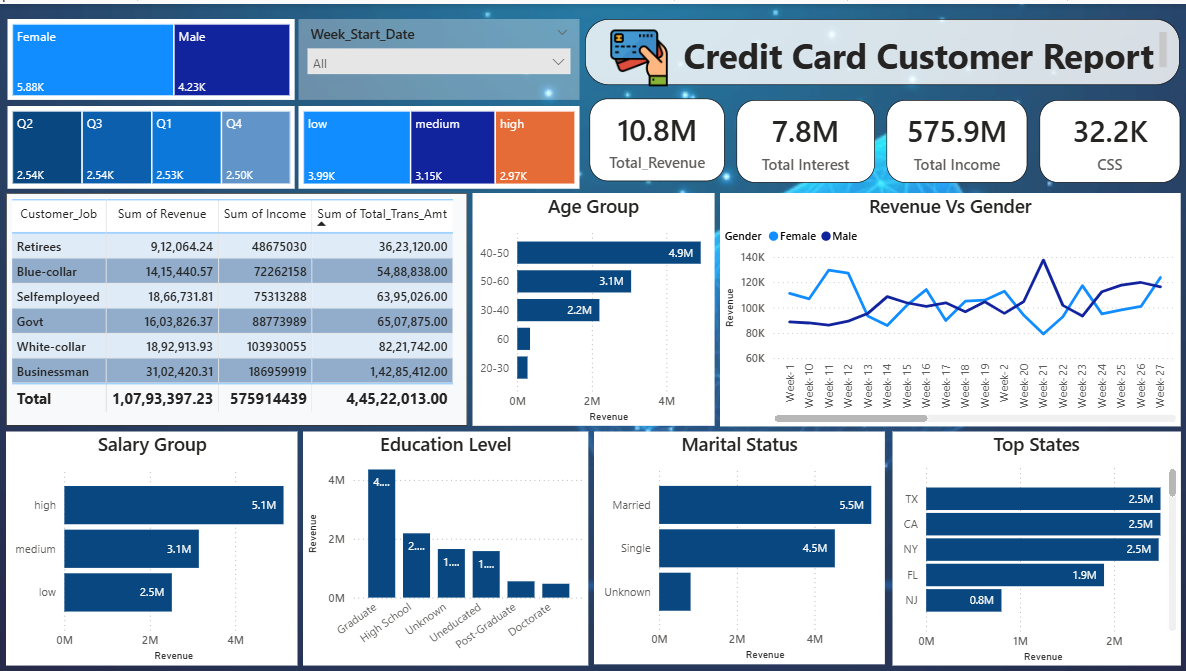

Layout of this report page (visuals, bound fields, positions):
{"tool":"powerbi","page":{"name":"Customer Report","canvas":[1280,720],"ordinal":1},"visuals":[{"type":"textbox","box":[630.8,16.2,642.2,71.4],"z":0},{"type":"card","fields":{"Values":["credit_card.Total_Revenue"]},"box":[635.7,102.2,145.9,89.2],"z":1000},{"type":"card","fields":{"Values":["credit_card.Total_Interest_Earned"]},"box":[795,103.6,149,89.1],"z":2000},{"type":"card","fields":{"Values":["Sum(customer.Income)"]},"box":[957,103.6,152.2,89.1],"z":3000},{"type":"card","fields":{"Values":["Sum(customer.Cust_Satisfaction_Score)"]},"box":[1122.1,103.6,152.2,89.1],"z":4000},{"type":"lineChart","title":"Revenue Vs Gender","fields":{"Category":["credit_card.Week_Num","credit_card.Week_Start_Date.Variation.Date Hierarchy.Quarter","credit_card.Week_Start_Date.Variation.Date Hierarchy.Month","credit_card.Week_Start_Date.Variation.Date Hierarchy.Day"],"Y":["Sum(credit_card.Revenue)"],"Series":["customer.Gender"]},"box":[777.2,204,497,252],"z":5000},{"type":"clusteredBarChart","title":"Top States","fields":{"Category":["customer.state_cd"],"Y":["Sum(credit_card.Revenue)"]},"box":[963,462,311,253],"z":6000},{"type":"clusteredBarChart","title":"Salary Group","fields":{"Y":["Sum(credit_card.Revenue)"],"Category":["customer.Income_Group"]},"box":[6.5,462.2,314.6,253],"z":7000},{"type":"clusteredBarChart","title":"Marital Status","fields":{"Category":["customer.Marital_Status"],"Y":["Sum(credit_card.Revenue)"]},"box":[642,462,314,251],"z":8000},{"type":"columnChart","title":"Education Level","fields":{"Category":["customer.Education_Level"],"Y":["Sum(credit_card.Revenue)"]},"box":[327,462.2,308.1,253],"z":9000},{"type":"barChart","title":"Age Group","fields":{"Category":["customer.Age_Group"],"Y":["Sum(credit_card.Revenue)"]},"box":[510,204.3,261,251.4],"z":10000},{"type":"tableEx","fields":{"Values":["customer.Customer_Job","Sum(credit_card.Revenue)","Sum(customer.Income)","Sum(credit_card.Total_Trans_Amt)"]},"box":[6.5,204.3,497.8,251.4],"z":11000},{"type":"treemap","fields":{"Group":["credit_card.Qtr"],"Values":["CountNonNull(customer.Client_Num)"]},"box":[8,110,310,89],"z":12000},{"type":"treemap","fields":{"Group":["customer.Gender"],"Values":["CountNonNull(customer.Client_Num)"]},"box":[8.1,16.2,309.7,87.6],"z":13000},{"type":"slicer","fields":{"Values":["credit_card.Week_Start_Date"]},"box":[322.7,16.2,303.2,87.6],"z":14000},{"type":"treemap","fields":{"Values":["CountNonNull(customer.Client_Num)"],"Group":["customer.Income_Group"]},"box":[322.7,110.3,303.2,89.2],"z":15000},{"type":"image","box":[642.2,27.6,94.1,61.6],"z":16000}]}

Visuals, with their boxes in screenshot pixels (x1, y1, x2, y2), scaled from the page's 1280x720 canvas onto the 1186x671 screenshot:
textbox: box=[584, 15, 1180, 82]
card - credit_card.Total_Revenue: box=[589, 95, 724, 178]
card - credit_card.Total_Interest_Earned: box=[737, 97, 875, 180]
card - Sum(customer.Income): box=[887, 97, 1028, 180]
card - Sum(customer.Cust_Satisfaction_Score): box=[1040, 97, 1181, 180]
"Revenue Vs Gender" lineChart: box=[720, 190, 1181, 425]
"Top States" clusteredBarChart: box=[892, 431, 1180, 666]
"Salary Group" clusteredBarChart: box=[6, 431, 298, 667]
"Marital Status" clusteredBarChart: box=[595, 431, 886, 664]
"Education Level" columnChart: box=[303, 431, 588, 667]
"Age Group" barChart: box=[473, 190, 714, 425]
tableEx - customer.Customer_Job x Sum(credit_card.Revenue): box=[6, 190, 467, 425]
treemap - credit_card.Qtr x CountNonNull(customer.Client_Num): box=[7, 103, 295, 185]
treemap - customer.Gender x CountNonNull(customer.Client_Num): box=[8, 15, 294, 97]
slicer - credit_card.Week_Start_Date: box=[299, 15, 580, 97]
treemap - CountNonNull(customer.Client_Num) x customer.Income_Group: box=[299, 103, 580, 186]
image: box=[595, 26, 682, 83]
